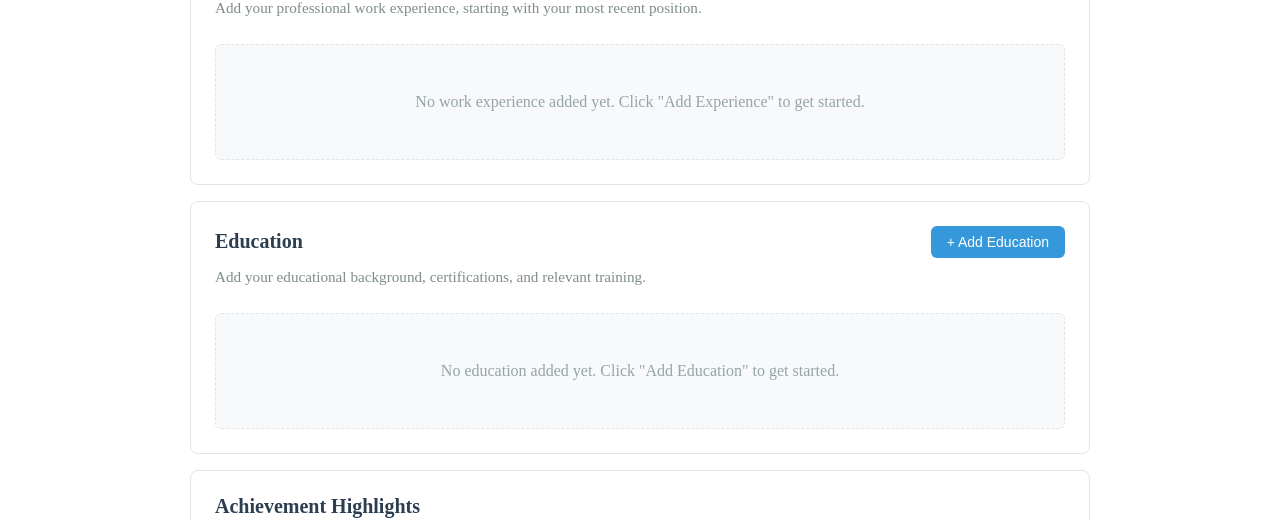
it: ExperienceStep Component › Education Management › saves education when valid data is provided
The image size is (1280, 520).
Add new education
Click the button "+ Add Education". click: (998,242)
box: left=931, top=226, right=1065, bottom=258
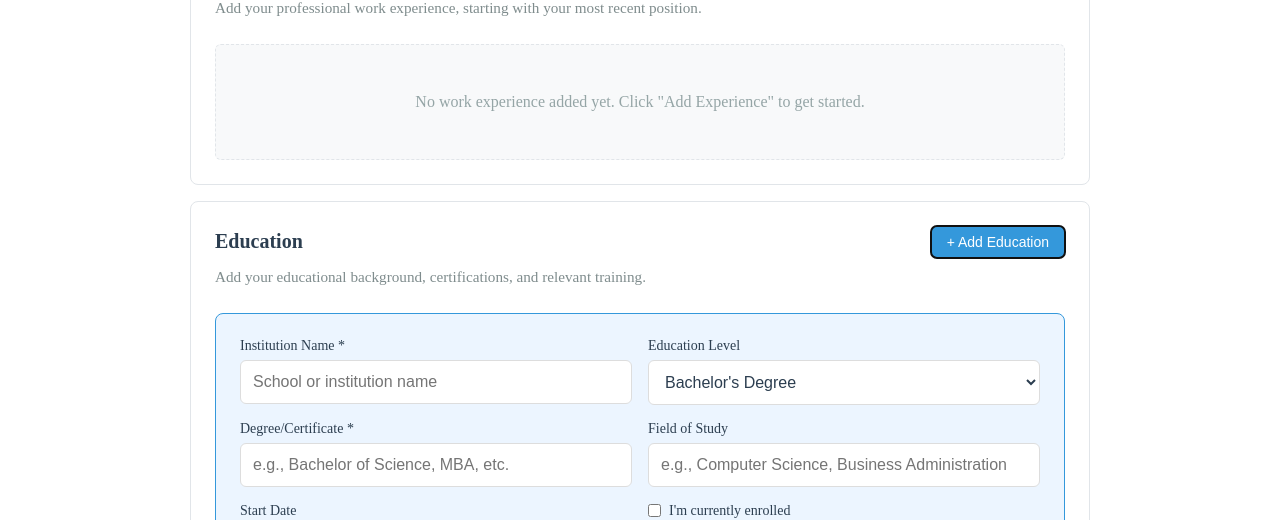
Fill required fields
Type "Test University" into the field with placeholder "School or institution name". click: (436,382)
box: left=240, top=360, right=632, bottom=404
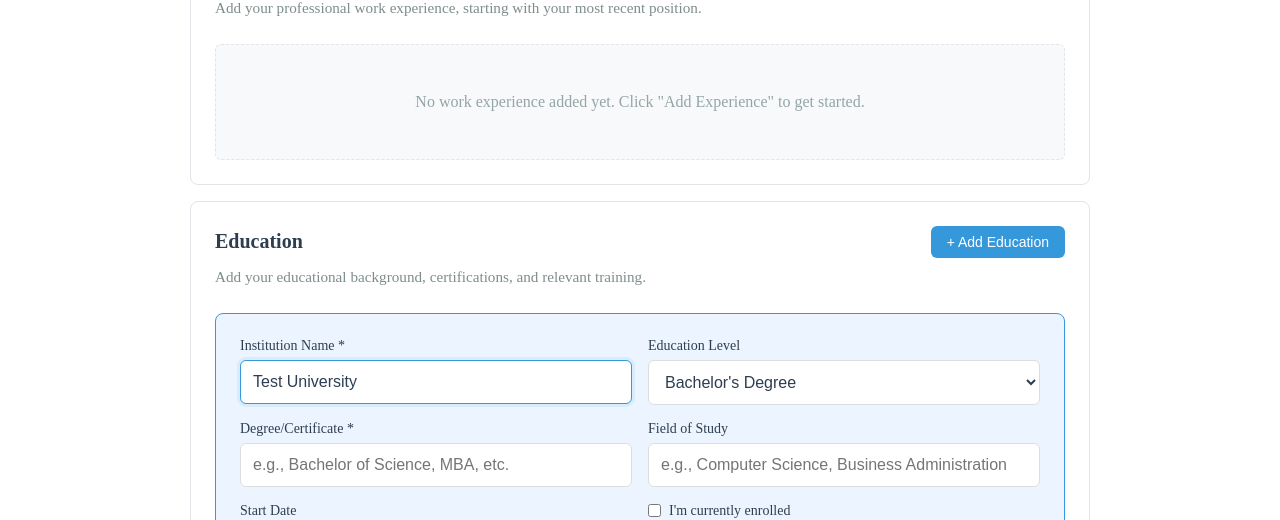
Type "Bachelor of Computer Science" into the field with placeholder "e.g., Bachelor of Science, MBA, etc.". click: (436,465)
box: left=240, top=443, right=632, bottom=487
(page scrolled)
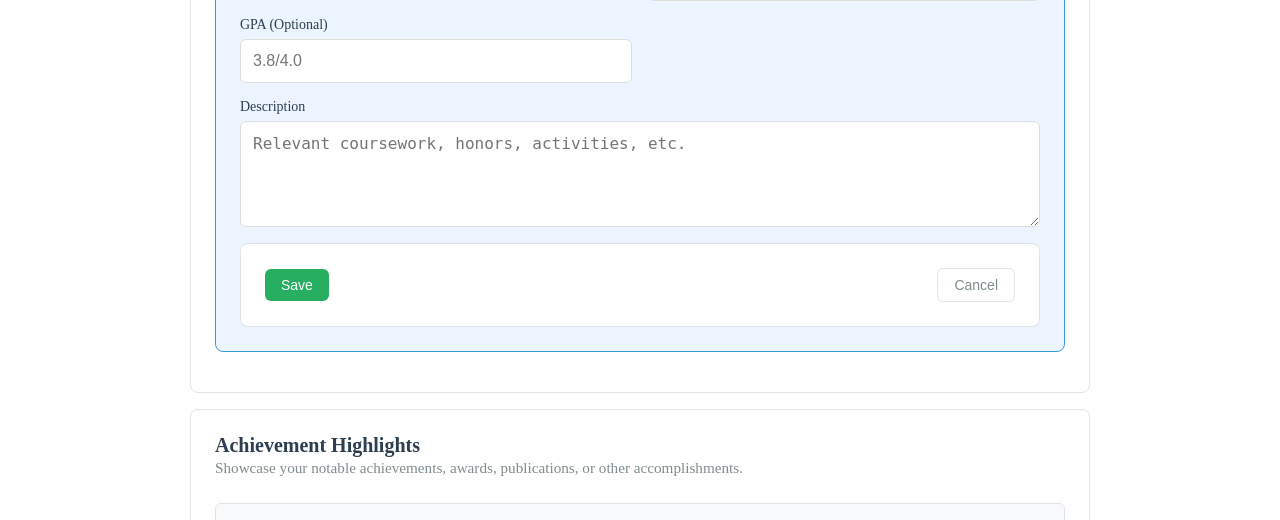
Click the button "Save". click: (297,285)
box: left=265, top=269, right=329, bottom=301
(page scrolled)
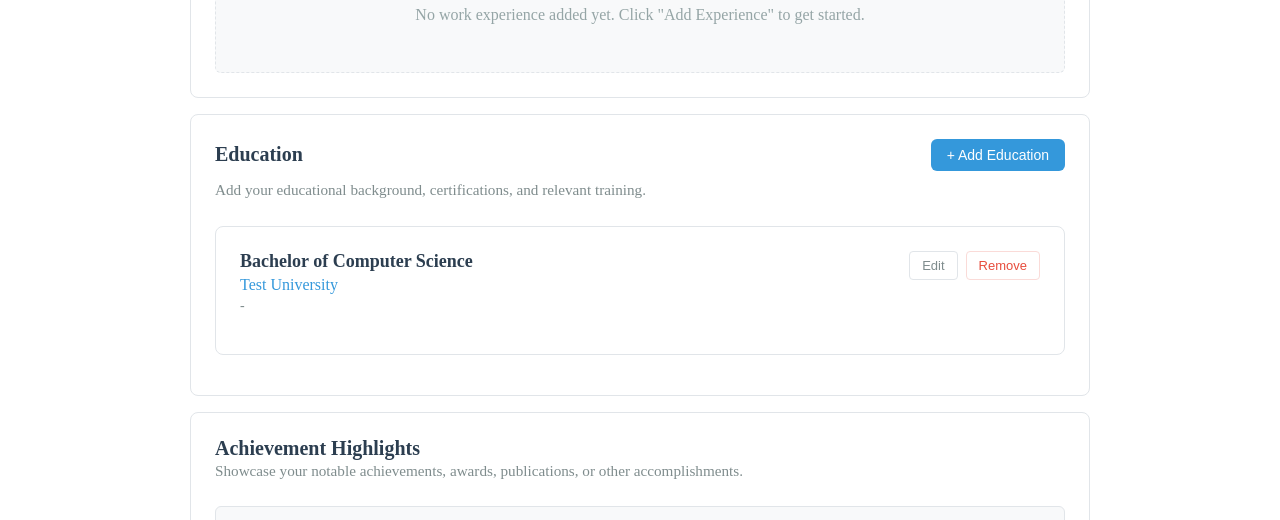
expect the heading "Bachelor of Computer Science" is shown: met, box left=240, top=251, right=473, bottom=272
expect the text "Test University" is shown: met, box left=240, top=276, right=338, bottom=293
